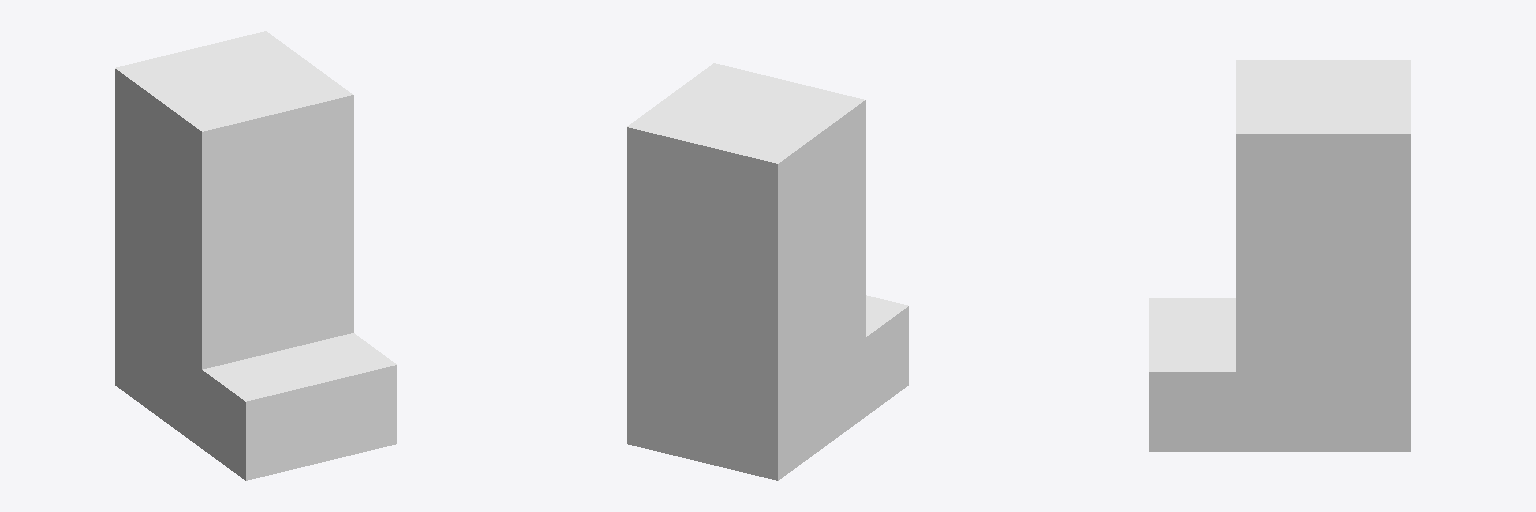
File: Samy-1.obj
3 views of the same model, side by side, from view 1: azimuth 30°, elevation 25°; view 2: azimuth 150°, elevation 25°; view 3: azimuth 270°, elevation 25° (orthographic).
Parts seen in each view (by area): view 1: object 1; view 2: object 1; view 3: object 1.
Boxes of the visible parts, x1,y1,x2,y2 form: object 1: [115, 31, 396, 480]; object 1: [627, 63, 908, 480]; object 1: [1149, 60, 1410, 451].
Size of the model in its own units: 0.2 by 0.4 by 0.3.